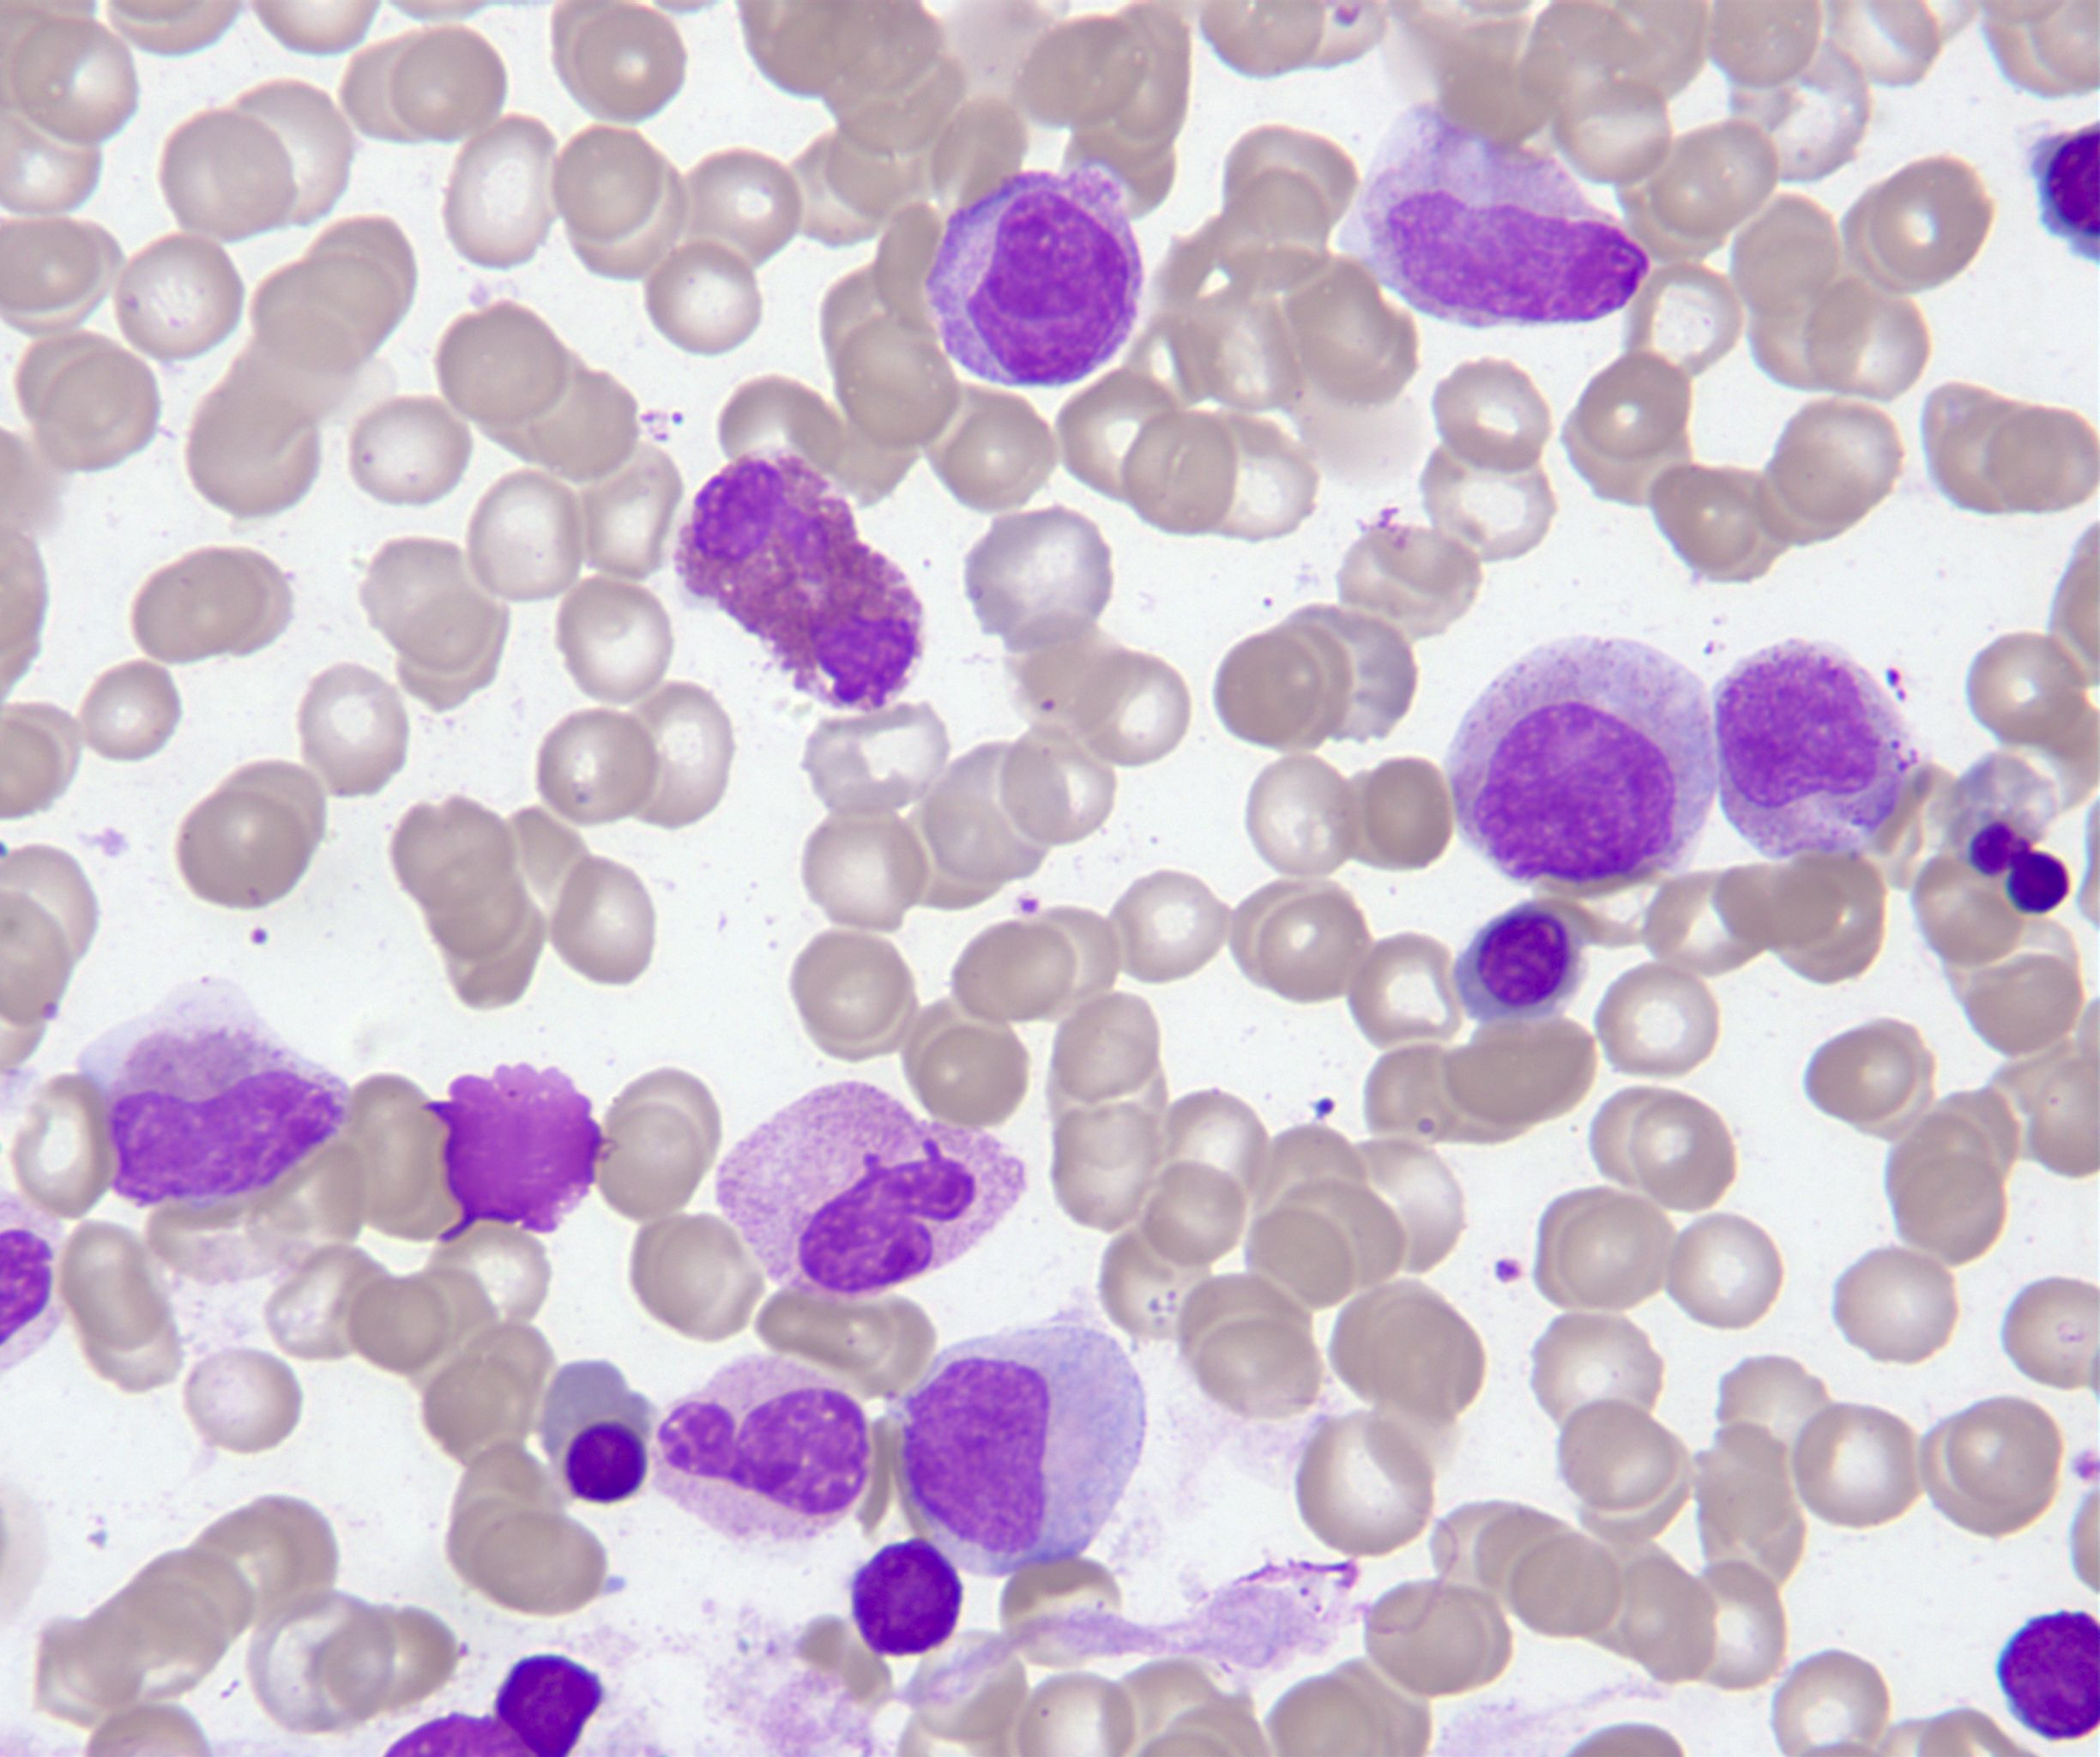24: (528, 1356, 665, 1514), (1926, 743, 2067, 883), (1449, 893, 1589, 1033)
3: (1329, 94, 1657, 338), (1439, 626, 1720, 900), (884, 1317, 1153, 1588), (1708, 632, 1926, 867)
32: (844, 1534, 968, 1666)
4: (70, 974, 361, 1214)
42: (921, 155, 1155, 394)
5: (708, 1077, 1033, 1307)
6: (645, 1347, 881, 1553)
E4: (663, 433, 931, 724)
